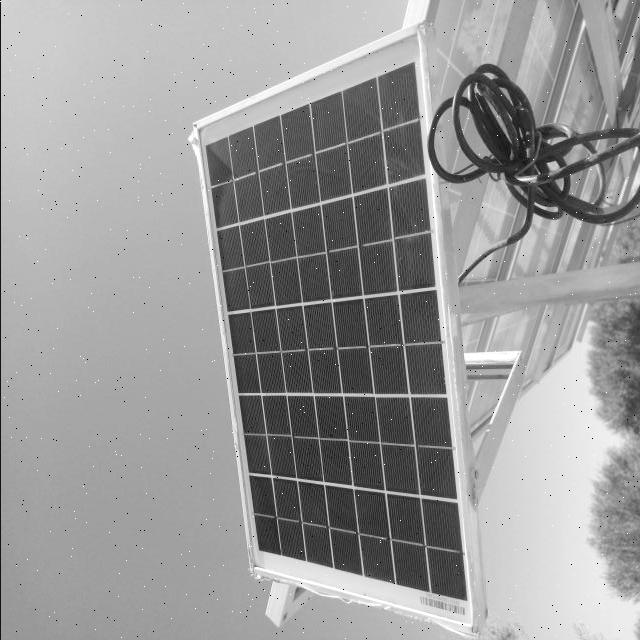Normal Solar Panel: (193, 29, 477, 632)
